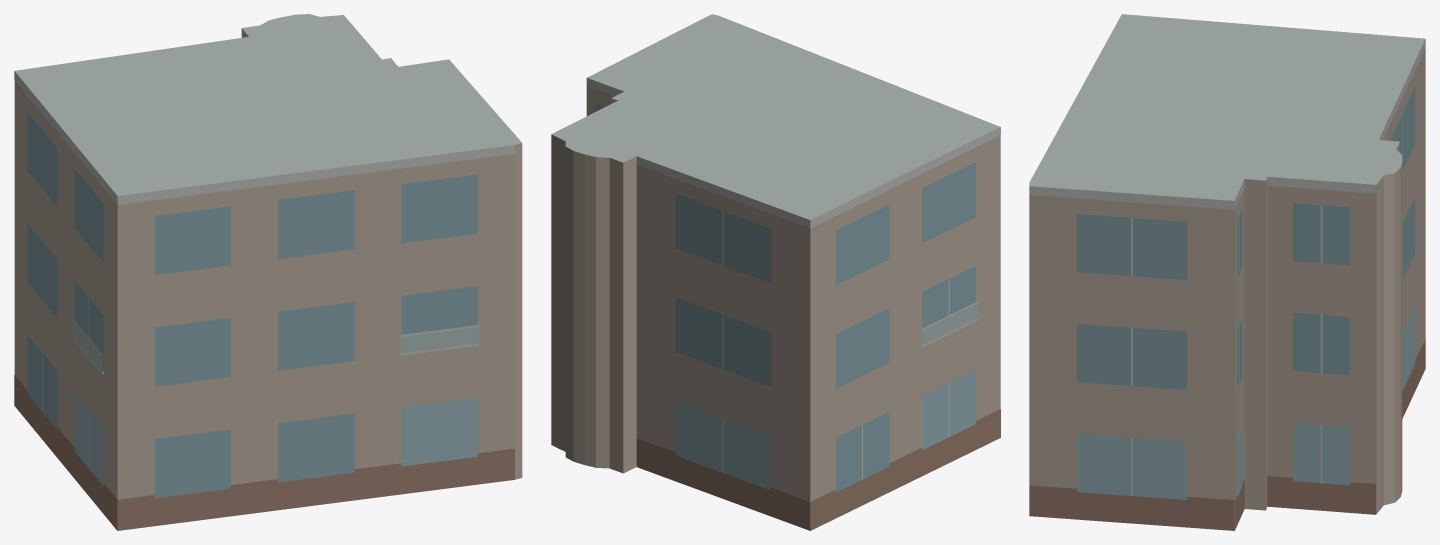
Rendered from survey-upis-32716628.glb.
The picture shows the model from 3 angles, left to right: view 1: azimuth 30°, elevation 25°; view 2: azimuth 150°, elevation 25°; view 3: azimuth 270°, elevation 25°; orthographic projection. The views are drawn at different scales.
Visible parts, largest first — view 1: survey-upis-32716628.tmp; view 2: survey-upis-32716628.tmp; view 3: survey-upis-32716628.tmp.
Boxes of the visible parts, <box> form: survey-upis-32716628.tmp: <box>14,14,522,530</box>; survey-upis-32716628.tmp: <box>551,14,1000,530</box>; survey-upis-32716628.tmp: <box>1029,14,1425,530</box>.
Bounding box in the file's own units: 11.13 × 9.15 × 9.97.
